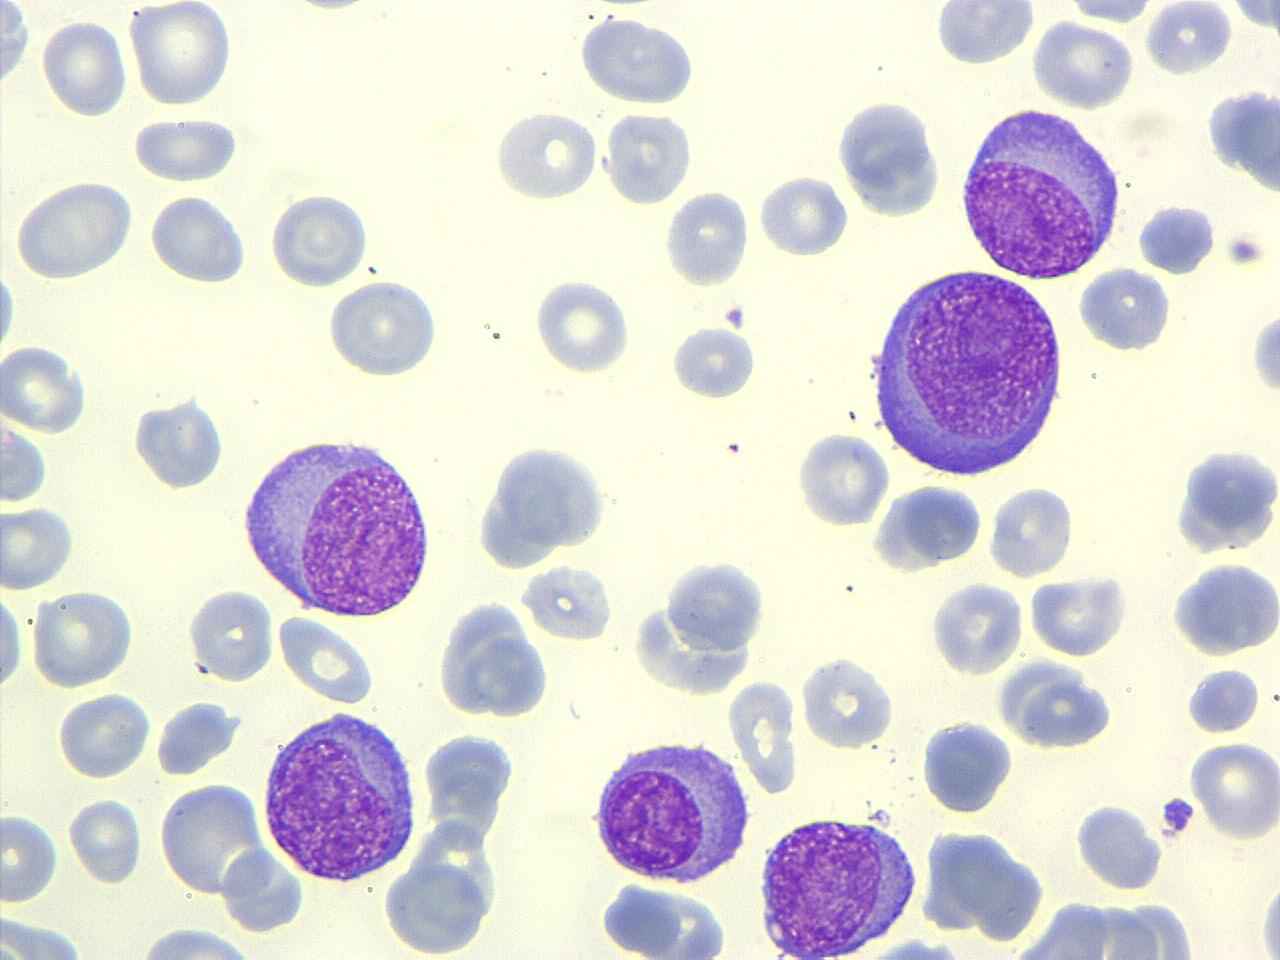Platelets: (129, 114, 245, 185), (668, 324, 761, 402), (1134, 202, 1218, 275), (1248, 309, 1280, 403), (1221, 230, 1269, 273), (1159, 794, 1197, 838), (0, 264, 18, 352), (722, 302, 748, 332)
RBC: (0, 0, 441, 332), (156, 774, 268, 901), (13, 176, 138, 282), (324, 274, 442, 384), (125, 1, 236, 108), (594, 876, 734, 958), (29, 586, 139, 690), (267, 187, 374, 289), (492, 105, 600, 203), (530, 275, 634, 376), (145, 190, 252, 287), (792, 427, 892, 530), (1030, 17, 1136, 112), (928, 578, 1026, 678), (797, 651, 895, 751), (274, 611, 378, 705), (1186, 738, 1280, 840), (184, 582, 277, 685), (661, 186, 753, 290), (39, 15, 129, 121), (602, 107, 697, 206), (1026, 571, 1130, 661), (53, 689, 152, 781), (726, 674, 800, 796), (986, 481, 1077, 579), (755, 169, 852, 258), (0, 342, 90, 435), (128, 114, 242, 184), (518, 563, 616, 644), (218, 846, 306, 934), (667, 322, 759, 402), (66, 792, 144, 886), (1141, 0, 1235, 76), (0, 503, 78, 592), (0, 808, 60, 904), (118, 922, 266, 958), (1, 411, 51, 505), (0, 583, 26, 700), (1256, 864, 1280, 960)
WBC: (868, 262, 1071, 482), (238, 432, 438, 620), (955, 103, 1127, 283), (258, 706, 422, 886), (586, 732, 754, 886), (753, 809, 921, 958), (626, 550, 774, 700), (470, 435, 612, 572), (378, 816, 509, 960), (434, 596, 554, 722), (832, 92, 946, 223), (325, 273, 448, 386), (158, 777, 266, 899), (1170, 440, 1280, 558), (942, 824, 1050, 942), (574, 10, 701, 106), (998, 662, 1122, 756), (1167, 558, 1280, 660), (594, 876, 732, 958), (873, 480, 988, 576), (128, 390, 230, 493), (146, 191, 252, 288), (918, 714, 1016, 818), (930, 578, 1029, 676), (1075, 261, 1175, 355), (1071, 798, 1167, 894), (1204, 80, 1278, 197), (930, 2, 1039, 70), (152, 698, 246, 776), (1135, 198, 1217, 278), (1184, 662, 1262, 738), (118, 923, 270, 959), (0, 0, 32, 109), (1257, 874, 1280, 960)
